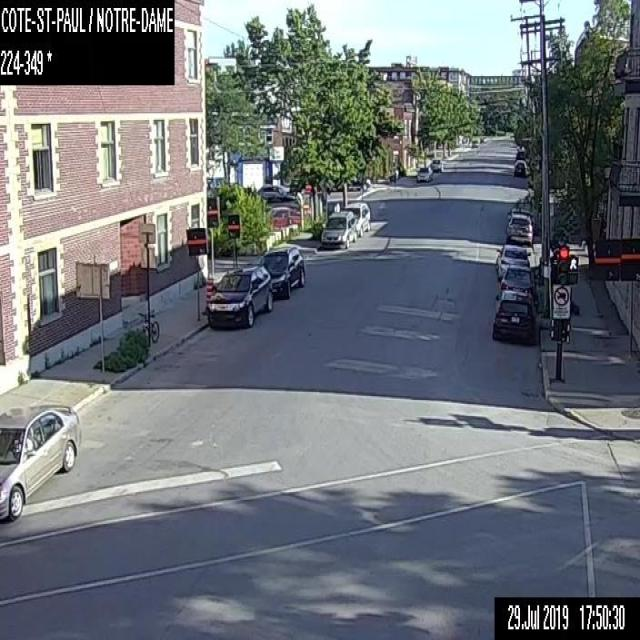construction: (204, 277, 212, 315)
vehicle: (0, 402, 81, 522), (208, 264, 272, 326), (252, 245, 304, 298), (491, 290, 539, 341), (321, 210, 357, 248), (494, 244, 530, 281), (500, 264, 534, 296), (256, 184, 303, 204), (343, 202, 370, 236), (506, 213, 532, 243), (267, 206, 301, 225), (260, 191, 296, 203), (508, 207, 532, 217), (416, 166, 432, 180), (513, 159, 526, 176), (430, 158, 442, 171), (515, 148, 525, 159), (471, 138, 478, 148), (478, 136, 486, 142)
